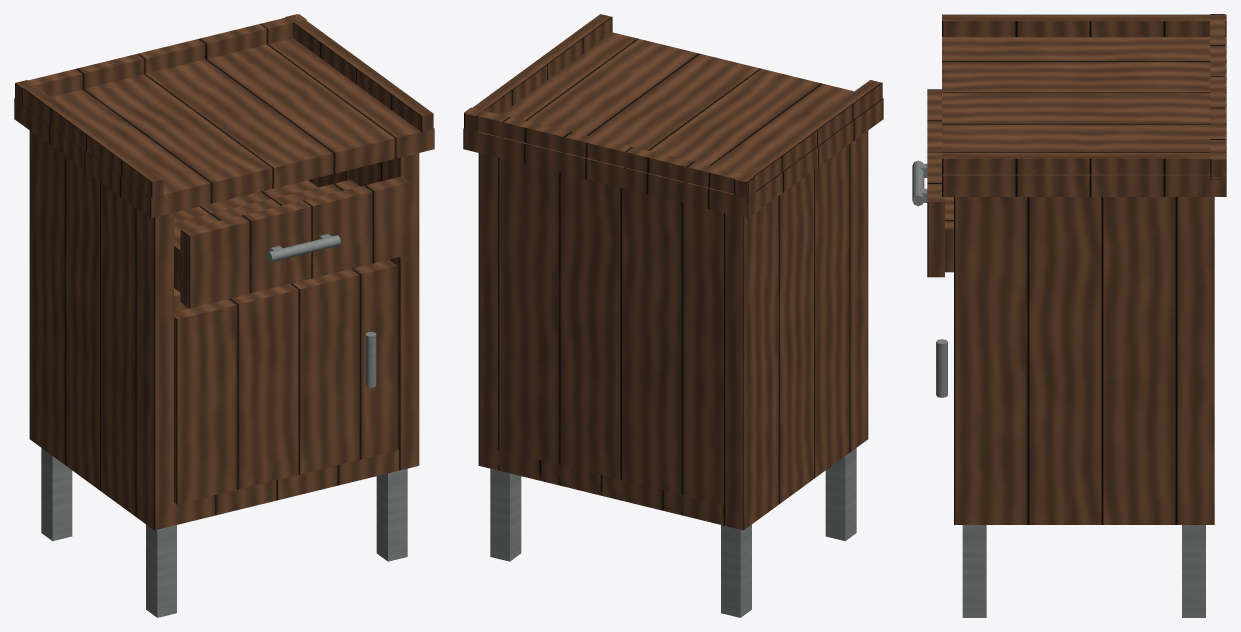
Rendered from bedside-table.obj.
3 renders of one model, left to right at view 1: azimuth 30°, elevation 25°; view 2: azimuth 150°, elevation 25°; view 3: azimuth 270°, elevation 25°, orthographic. The views are drawn at different scales.
Parts seen in each view (by area): view 1: CabinetWood, CabinetHardware; view 2: CabinetWood, CabinetHardware; view 3: CabinetWood, CabinetHardware.
Boxes of the visible parts, x1,y1,x2,y2 form: CabinetWood: (14, 14, 434, 530); CabinetHardware: (41, 234, 407, 617); CabinetWood: (463, 14, 883, 530); CabinetHardware: (490, 448, 856, 617); CabinetWood: (927, 14, 1226, 524); CabinetHardware: (912, 160, 1205, 617).
Size of the model in its own units: 0.58 by 0.87 by 0.53.
Materials: 2 (2 with a texture image).
